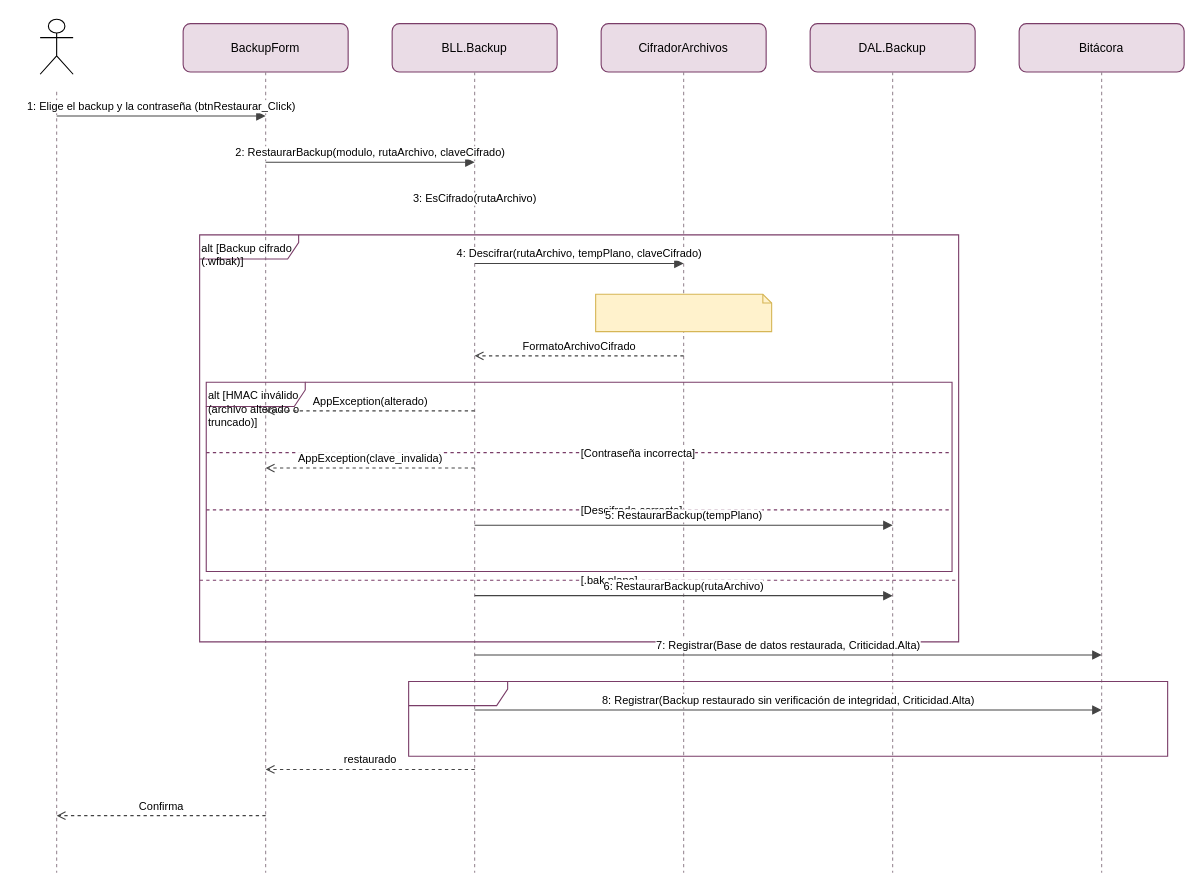
Some shapes in this 1203 by 893 pixel diagram are drawn without their labels. The centre of each missing label's shape, as x and y in pixels:
Administrador: the point at 56,46
opt [Formato v1 sin HMAC]: the point at 788,718
v2: verifica el HMAC-SHA256 antes de descifrar; v1 (sin HMAC) se sigue leyendo: the point at 683,312
